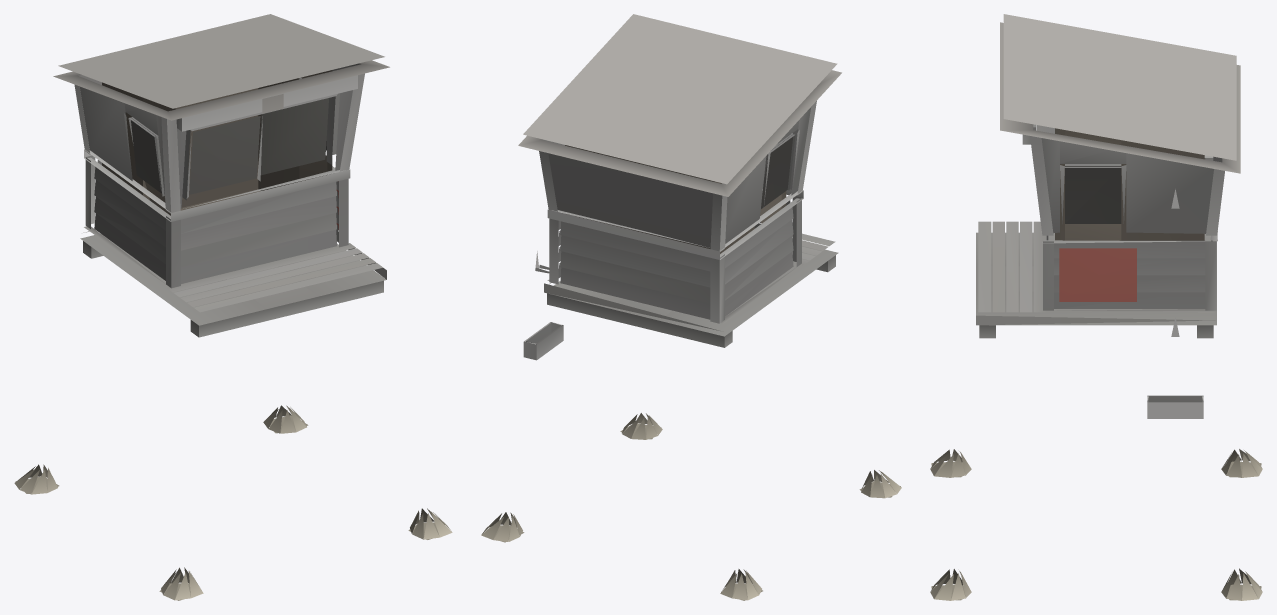
File: tower.lod.glb
3 renders of one model, left to right at view 1: azimuth 30°, elevation 25°; view 2: azimuth 150°, elevation 25°; view 3: azimuth 270°, elevation 25°, orthographic. The views are drawn at different scales.
Parts seen in each view (by area): view 1: tower; view 2: tower; view 3: tower.
Part boxes in pixels (x1,y1,x2,y2): tower: (14,14,452,600); tower: (481,14,901,600); tower: (930,14,1262,600).
Bounding box in the file's own units: 4 × 6.16 × 4.
